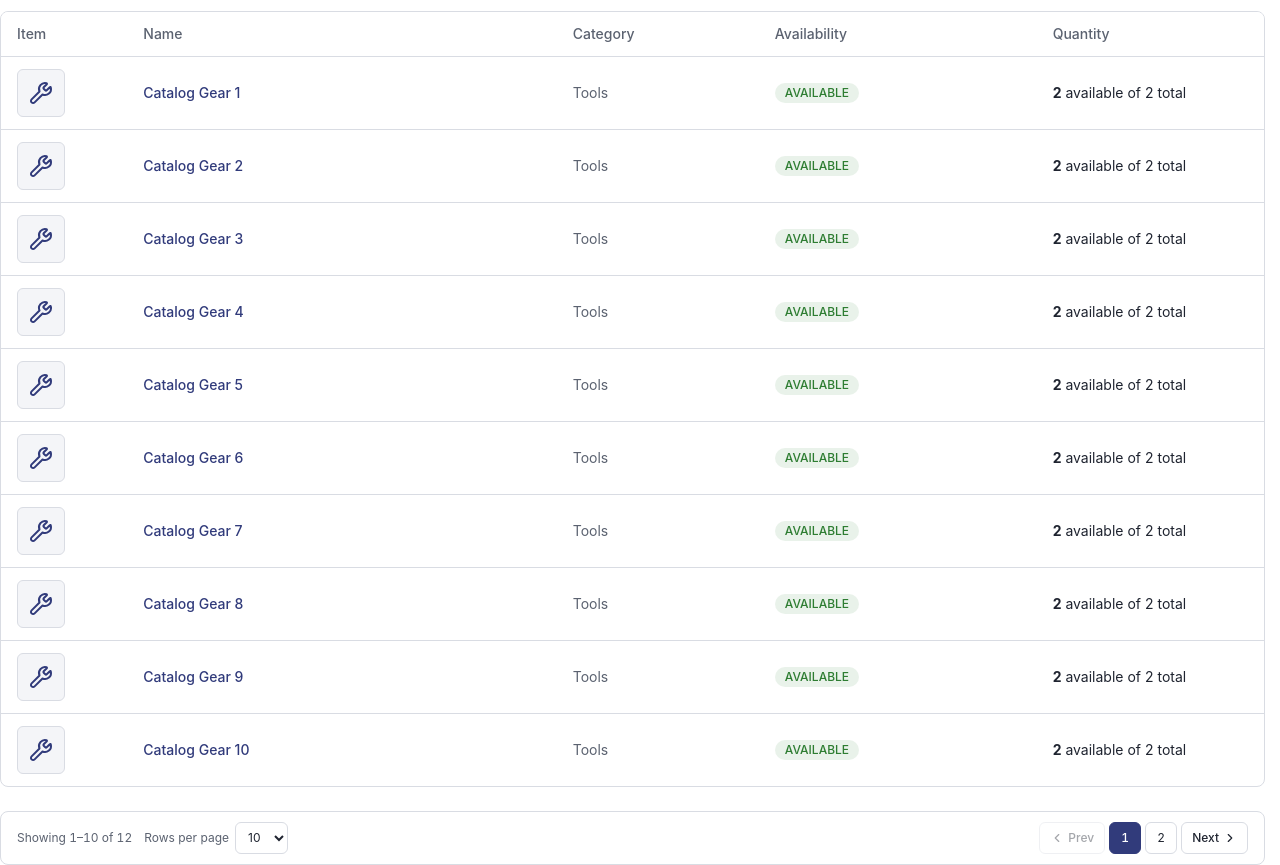
CatalogPage (ui-spec §2 / f-02 §3 states) › paginates CatalogPage items (default 10) and resets to page 1 when filters change
(page scrolled)
Expected: the text "Showing 1–10 of 12" is shown, [17,830,132,846]
Expected: the text "Catalog Gear 11" is not shown
Click the button with aria-label "Next page": [1215, 838] box [1181,822,1248,854]
(page scrolled)
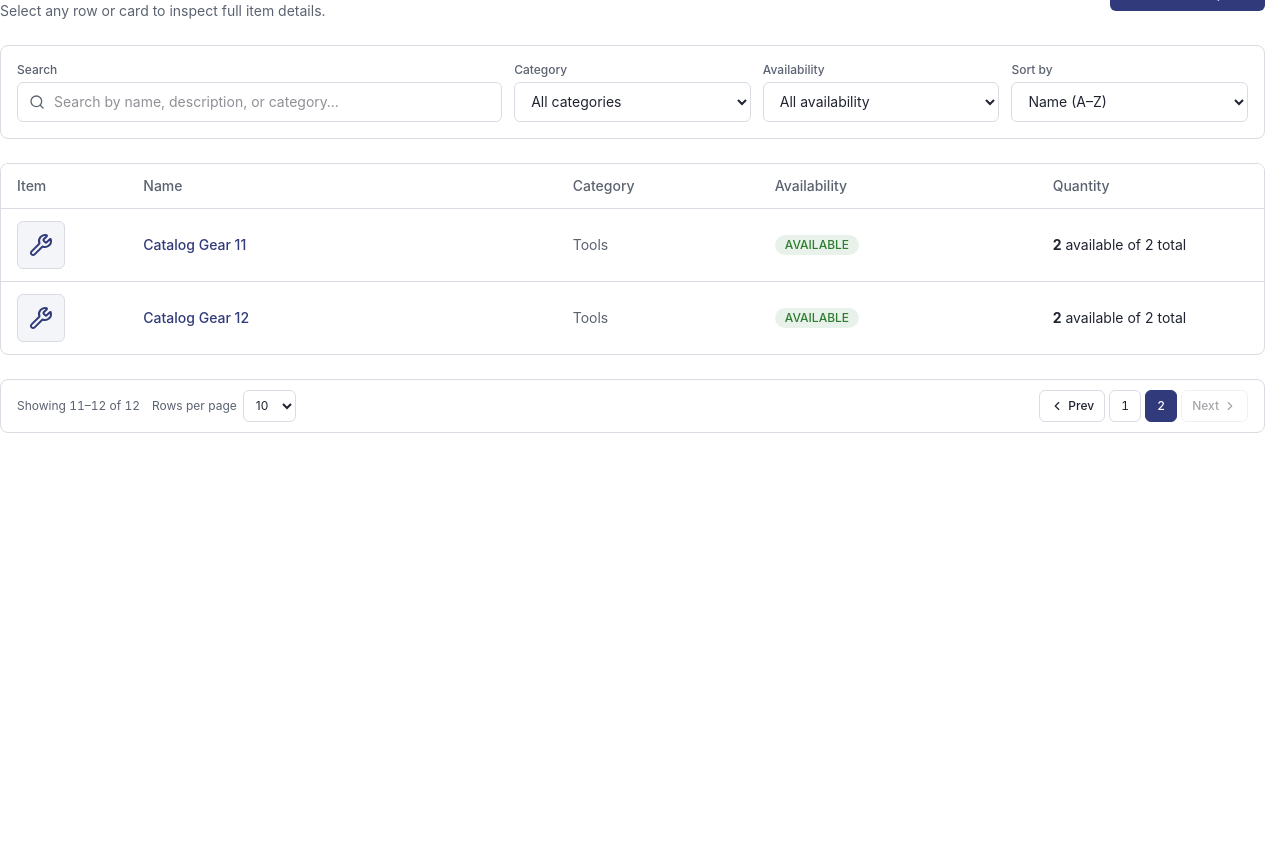
Expected: the text "Showing 11–12 of 12" is shown, [17,398,140,414]
Select "Name (Z–A)" in the dropdown labelled "Sort by": [1130, 102] box [1011,82,1248,122]
(page scrolled)
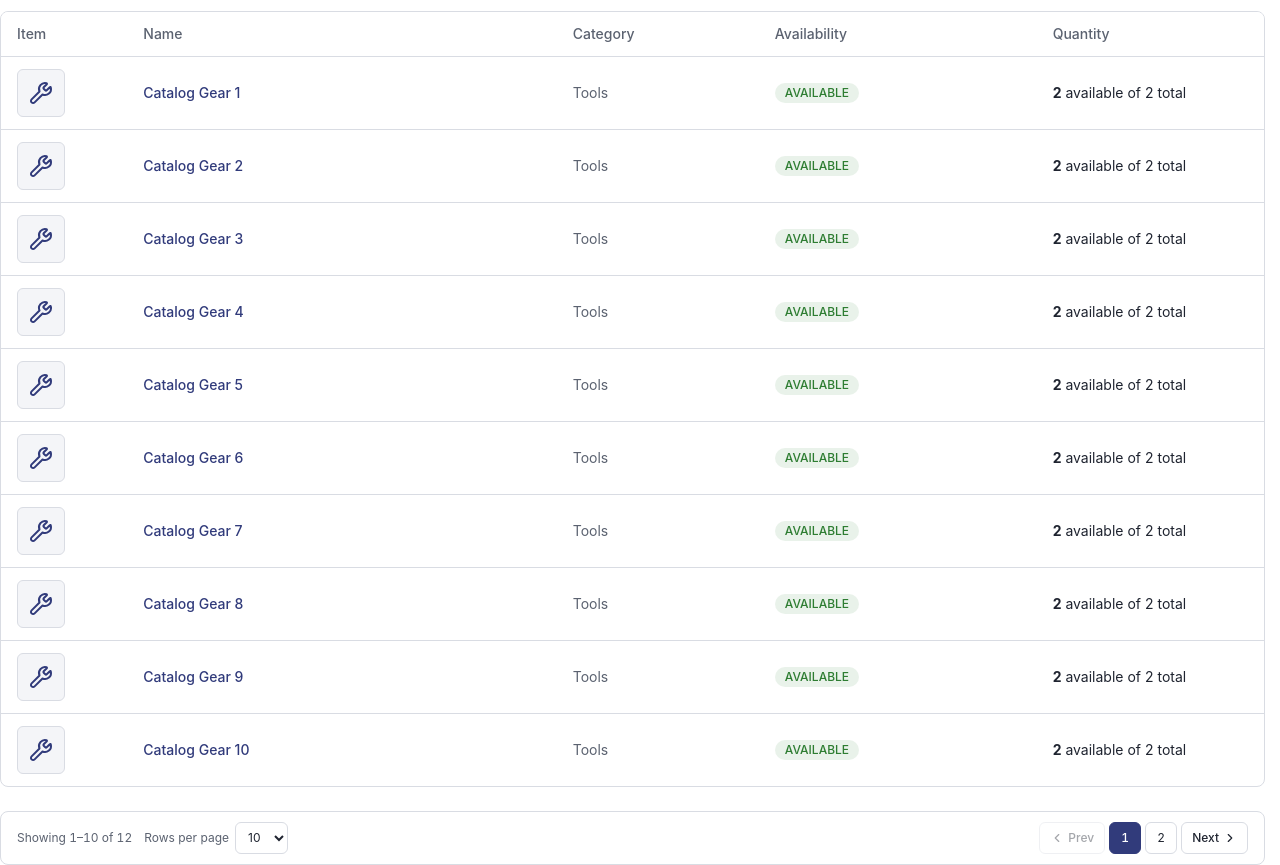
Expected: the text "Showing 1–10 of 12" is shown, [17,830,132,846]
